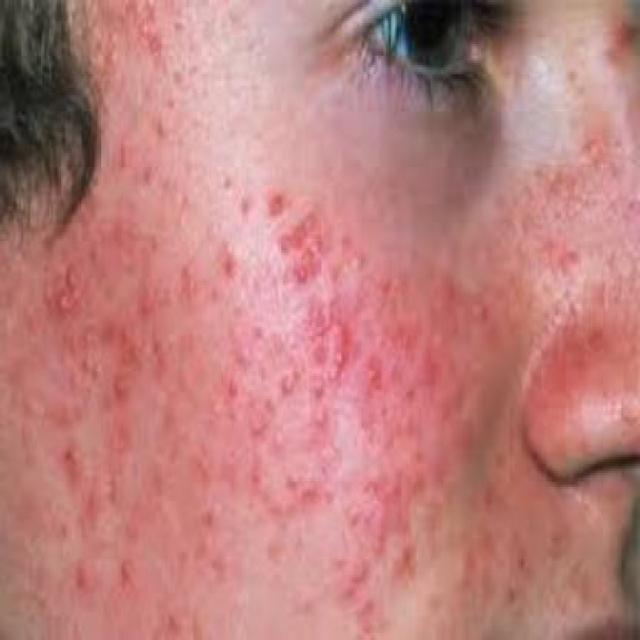acne: (64, 553, 98, 604), (346, 550, 380, 594), (114, 548, 140, 595), (218, 246, 246, 288), (111, 366, 136, 403), (361, 357, 388, 391), (222, 371, 249, 404), (266, 182, 290, 218), (77, 322, 102, 356), (276, 367, 297, 402), (350, 248, 372, 278), (290, 258, 310, 290), (333, 342, 352, 372), (78, 348, 94, 373), (252, 319, 266, 344), (90, 366, 106, 386)
